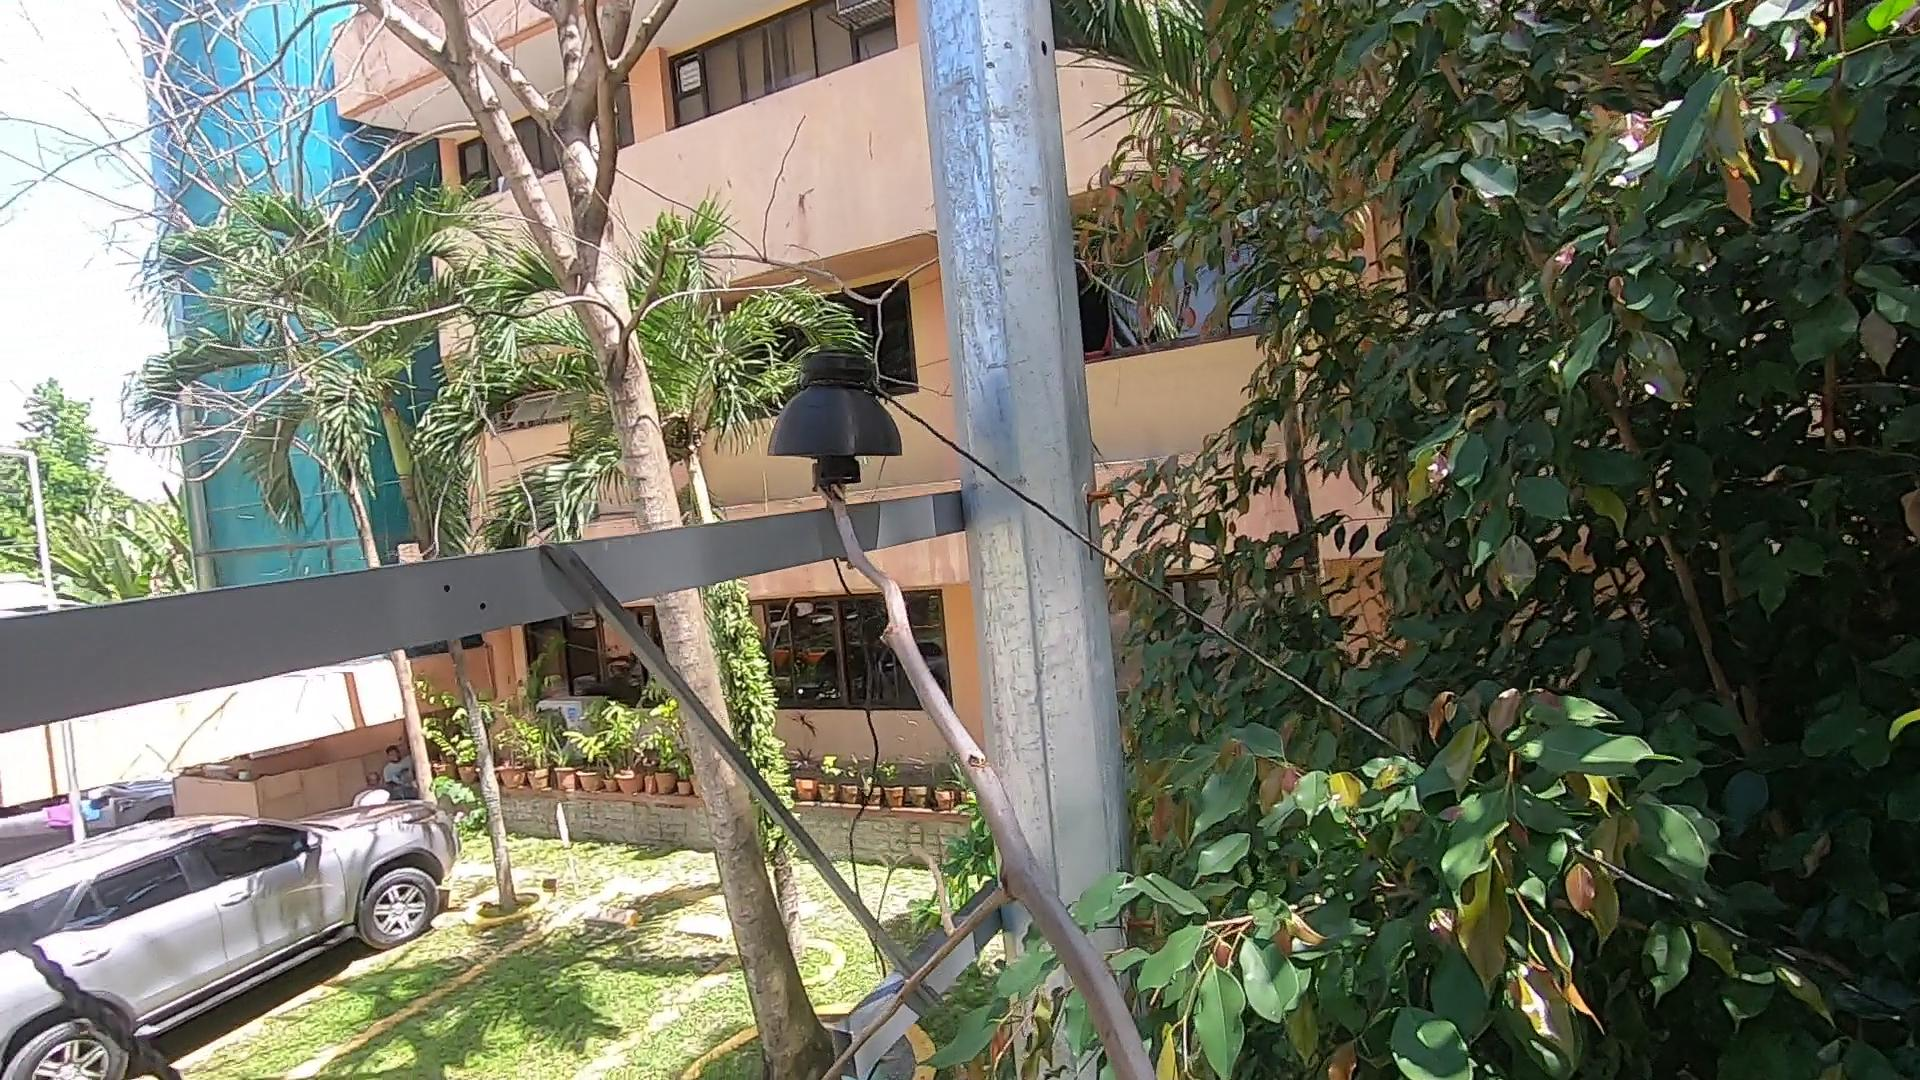branch with leaves: (942, 949, 1101, 1080)
tree branch: (778, 430, 1199, 1080)
